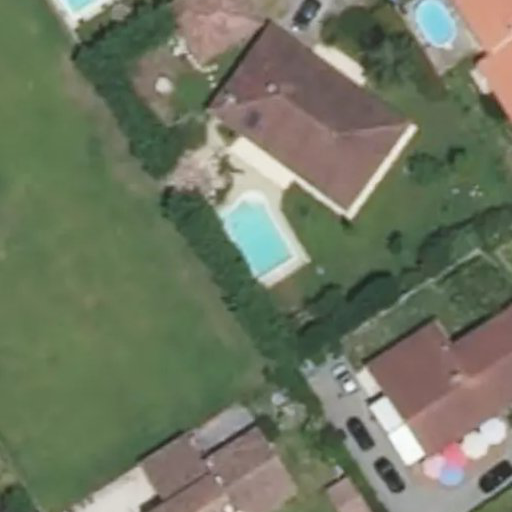pool: (218, 216, 293, 256)
